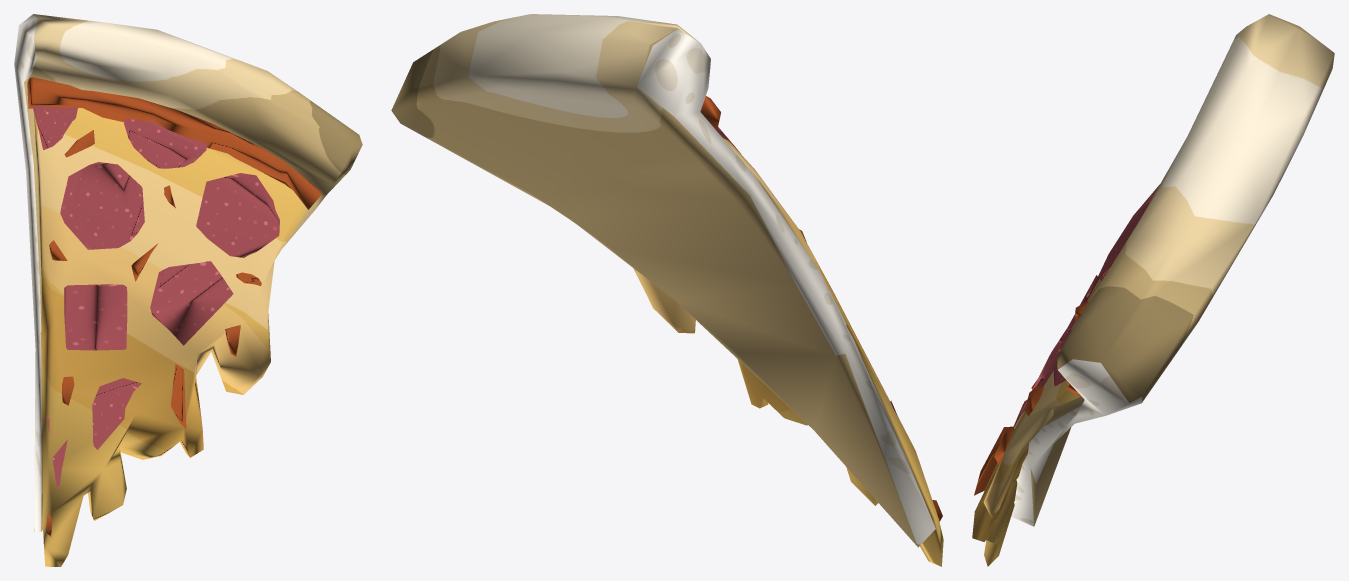
The model's file is pizza-v1-transformed.glb.
3 views of the same model, side by side, from view 1: azimuth 30°, elevation 25°; view 2: azimuth 150°, elevation 25°; view 3: azimuth 270°, elevation 25° (orthographic). The views are drawn at different scales.
Parts seen in each view (by area): view 1: Cheese_4; view 2: Cheese_4; view 3: Cheese_4.
Boxes of the visible parts, x1,y1,x2,y2 form: Cheese_4: [14, 14, 362, 566]; Cheese_4: [391, 14, 943, 566]; Cheese_4: [972, 14, 1334, 566].
Bounding box in the file's own units: 3.96 × 4.83 × 2.62.
Materials: 4 (3 with a texture image).
